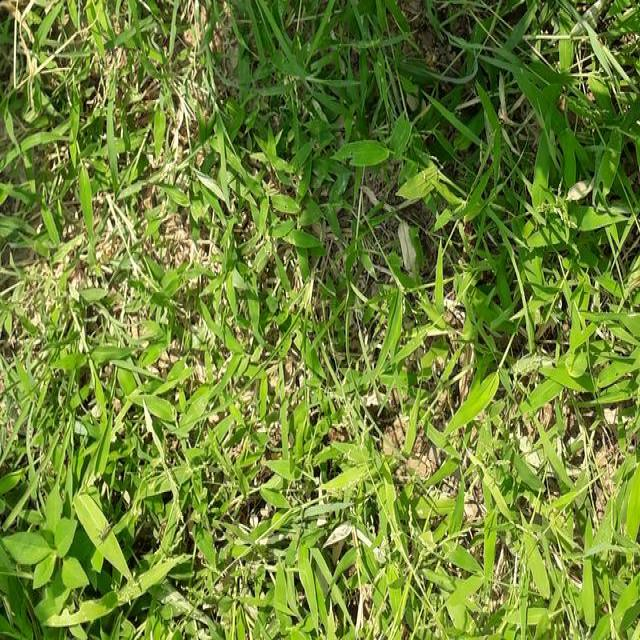weed: (122, 0, 640, 378), (189, 458, 640, 640), (3, 279, 175, 640)
